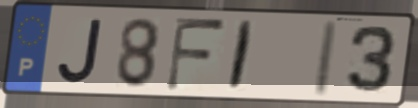3: (345, 24, 401, 97)
8: (115, 15, 163, 91)
F: (163, 14, 228, 94)
I: (309, 18, 342, 99), (224, 18, 257, 93)
J: (55, 17, 106, 86)
